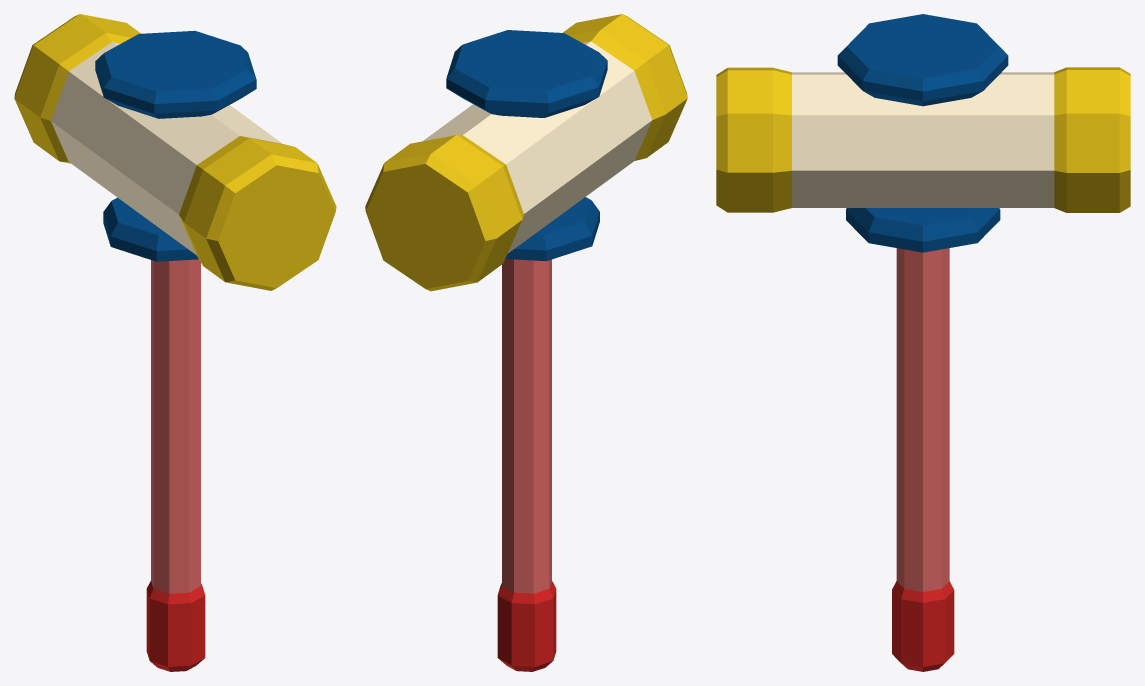
3 views of the same model, side by side, from view 1: azimuth 30°, elevation 25°; view 2: azimuth 150°, elevation 25°; view 3: azimuth 270°, elevation 25° (orthographic). The views are drawn at different scales.
Visible parts, largest first — view 1: hamer_holder; view 2: hamer_holder; view 3: hamer_holder.
Boxes of the visible parts, x1,y1,x2,y2 form: hamer_holder: [14, 14, 336, 671]; hamer_holder: [365, 14, 687, 671]; hamer_holder: [716, 14, 1130, 671].
Bounding box in the file's own units: 39.6 × 158 × 96.07.
